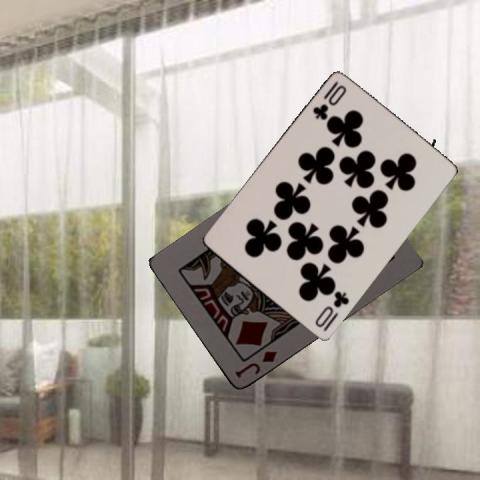10c: (309, 78, 348, 122), (312, 288, 351, 329)
Jd: (231, 348, 279, 380)
